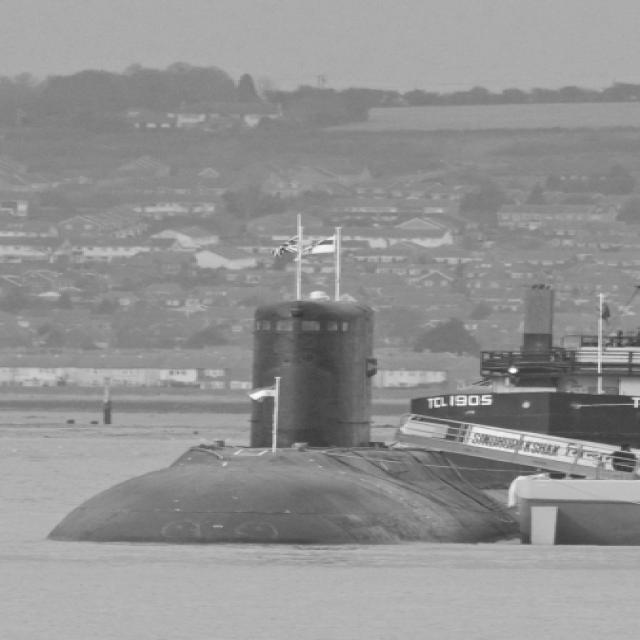submarine: (39, 278, 523, 542)
